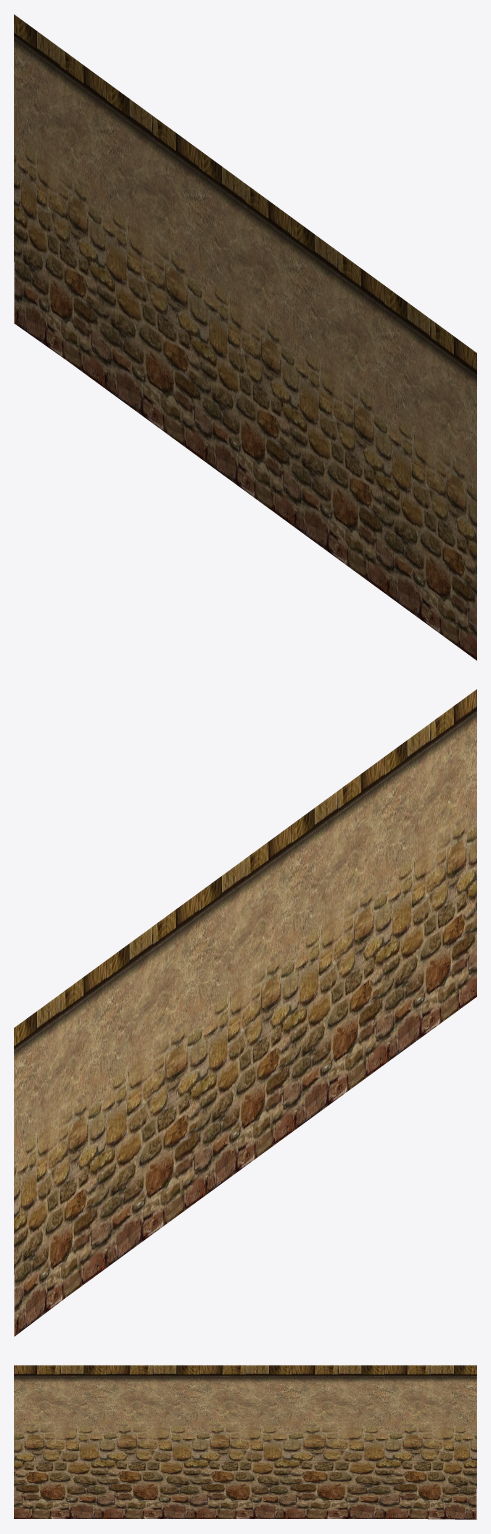
File: ParedUno.obj
The picture shows the model from 3 angles, top to bottom: view 1: azimuth 30°, elevation 25°; view 2: azimuth 150°, elevation 25°; view 3: azimuth 270°, elevation 25°; orthographic projection. The views are drawn at different scales.
Parts seen in each view (by area): view 1: clocktown_main.003_geom-03D75826.003_material-0209F83C, clocktown_main.003_geom-03D75826.003_material-0151D5D9; view 2: clocktown_main.003_geom-03D75826.003_material-0209F83C, clocktown_main.003_geom-03D75826.003_material-0151D5D9; view 3: clocktown_main.003_geom-03D75826.003_material-0209F83C, clocktown_main.003_geom-03D75826.003_material-0151D5D9.
Boxes of the visible parts, x1,y1,x2,y2 form: clocktown_main.003_geom-03D75826.003_material-0209F83C: (14,38,476,660); clocktown_main.003_geom-03D75826.003_material-0151D5D9: (14,14,476,375); clocktown_main.003_geom-03D75826.003_material-0209F83C: (14,712,476,1336); clocktown_main.003_geom-03D75826.003_material-0151D5D9: (14,689,476,1050); clocktown_main.003_geom-03D75826.003_material-0209F83C: (14,1377,476,1519); clocktown_main.003_geom-03D75826.003_material-0151D5D9: (14,1365,476,1376).
Size of the model in its own units: 0 by 2.21 by 6.
